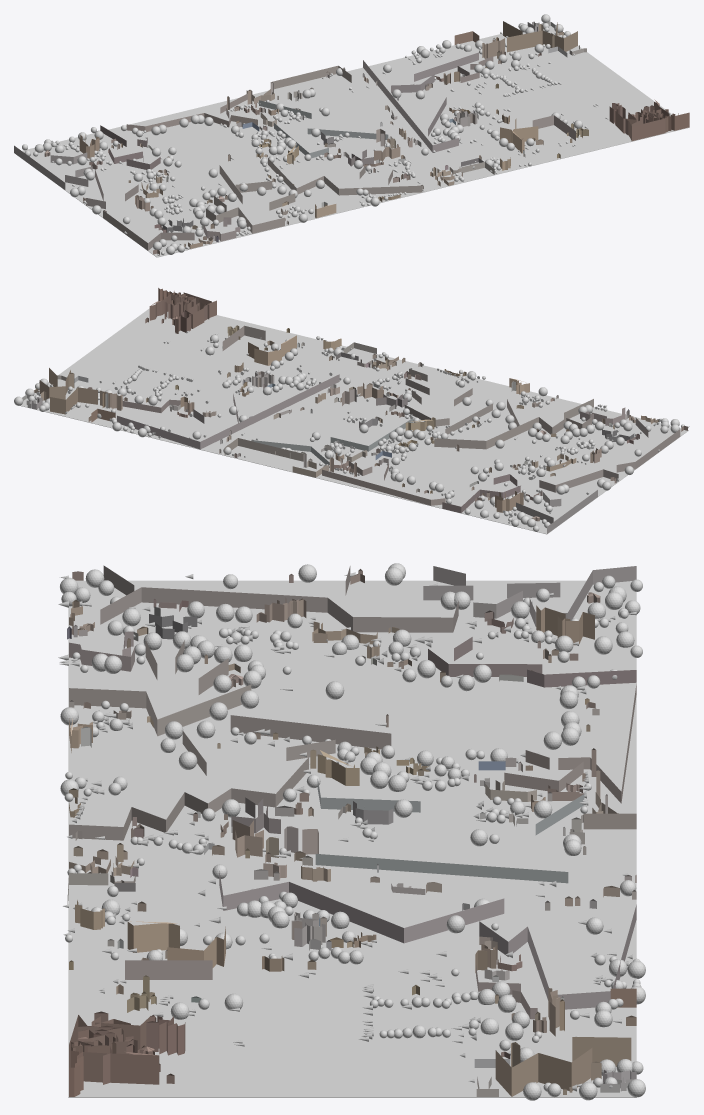
Rendered from scene_884925e9-0ed2-4d7d-9abe-5a558913d94c.glb.
3 views of the same model, one above another, from view 1: azimuth 30°, elevation 25°; view 2: azimuth 150°, elevation 25°; view 3: azimuth 270°, elevation 25° (orthographic). The views are drawn at different scales.
Visible parts, largest first — view 1: Ground_Base, BLD-249, BLD-162, BLD-244, BLD-141, BLD-174, BLD-256, BLD-226, BLD-072, BLD-254, BLD-255, BLD-252 (+2 smaller); view 2: Ground_Base, BLD-249, BLD-162, BLD-244, BLD-174, BLD-141, BLD-254, BLD-256, BLD-226, BLD-255, BLD-096, BLD-252 (+3 smaller); view 3: Ground_Base, BLD-249, BLD-162, BLD-174, BLD-226, BLD-244, BLD-141, BLD-256, BLD-255, BLD-096, BLD-079, BLD-254 (+10 smaller).
Part boxes in pixels (x1,y1,x2,y2): Ground_Base: (14,26,689,257); BLD-249: (363,52,478,152); BLD-162: (206,165,295,233); BLD-244: (503,21,577,52); BLD-141: (268,158,422,195); BLD-174: (86,169,194,250); BLD-256: (14,145,92,189); BLD-226: (259,100,388,158); BLD-072: (615,111,665,141); BLD-254: (126,93,257,131); BLD-255: (100,125,160,169); BLD-252: (270,65,351,89); Ground_Base: (20,304,688,534); BLD-249: (117,374,339,449); BLD-162: (434,399,593,449); BLD-244: (39,368,97,414); BLD-174: (539,417,680,492); BLD-141: (404,368,492,434); BLD-254: (322,461,445,505); BLD-256: (516,490,597,533); BLD-226: (254,418,412,467); BLD-255: (442,474,520,512); BLD-096: (248,335,296,365); BLD-252: (224,438,303,461); Ground_Base: (68,580,636,1097); BLD-249: (219,871,636,1009); BLD-162: (69,640,391,749); BLD-174: (100,565,458,632); BLD-226: (315,779,584,883); BLD-244: (495,1037,631,1096); BLD-141: (69,731,335,840); BLD-256: (423,566,636,626); BLD-255: (428,637,636,687); BLD-096: (127,921,225,967); BLD-079: (83,1052,159,1084); BLD-254: (504,683,636,803).
Bounding box in the file's own units: 747 × 25.47 × 354.
